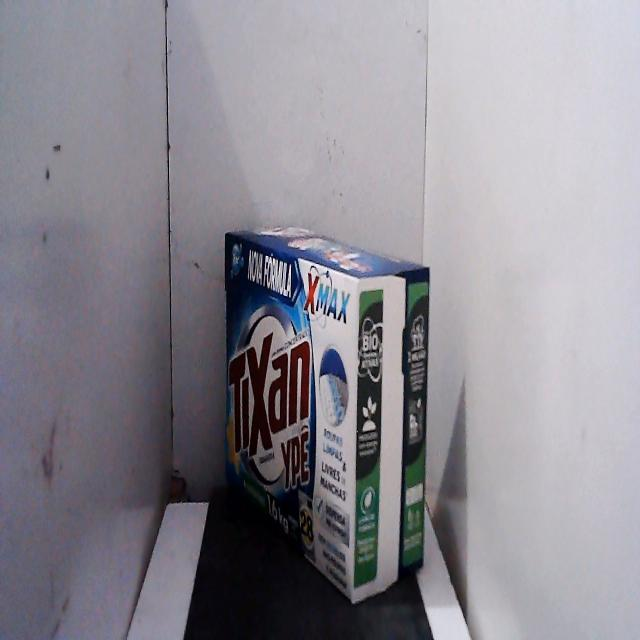papel: (213, 212, 437, 612)
